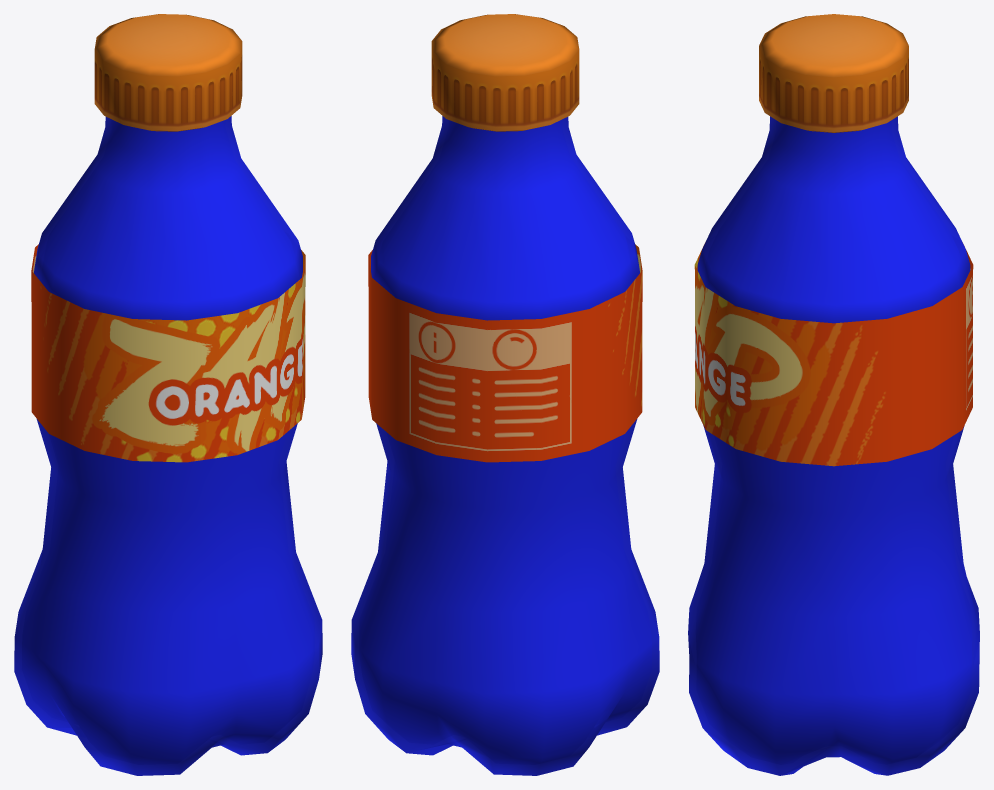
File: 004-Soda_Bottle_2.FBX
3 renders of one model, left to right at view 1: azimuth 30°, elevation 25°; view 2: azimuth 150°, elevation 25°; view 3: azimuth 270°, elevation 25°, orthographic.
Visible parts, largest first — view 1: Soda_Bottle_Plastic, 004-Soda_Bottle_Label_02; view 2: Soda_Bottle_Plastic, 004-Soda_Bottle_Label_02; view 3: Soda_Bottle_Plastic, 004-Soda_Bottle_Label_02.
Part boxes in pixels (bbox=[...]): Soda_Bottle_Plastic: bbox=[14, 116, 322, 775]; 004-Soda_Bottle_Label_02: bbox=[31, 14, 305, 462]; Soda_Bottle_Plastic: bbox=[351, 116, 659, 775]; 004-Soda_Bottle_Label_02: bbox=[368, 14, 642, 462]; Soda_Bottle_Plastic: bbox=[688, 116, 979, 775]; 004-Soda_Bottle_Label_02: bbox=[694, 14, 973, 466].
Bounding box in the file's own units: 13.09 × 34.87 × 13.09.
